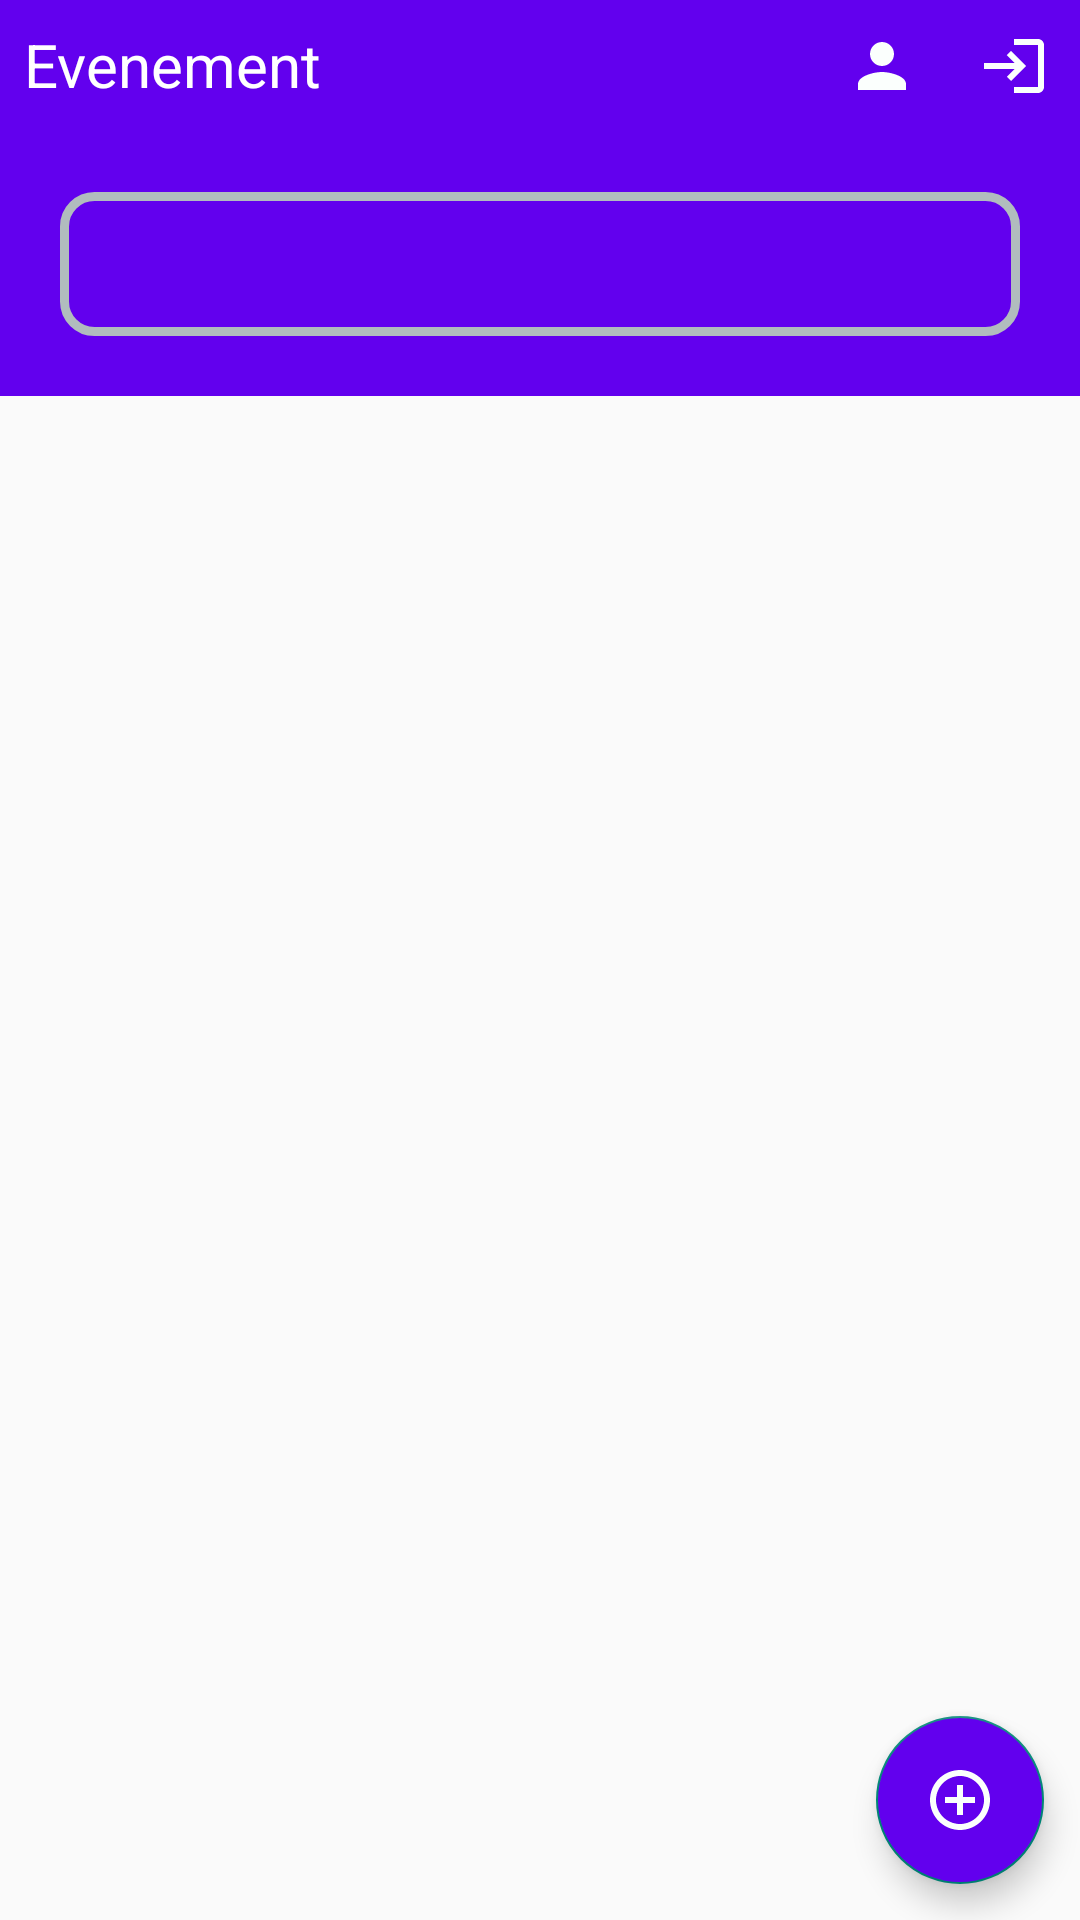

Named icons in this screenshot (1080px x 1920px) and their centers, [x,y]:
add: [960,1800]
profile: [882,66]
